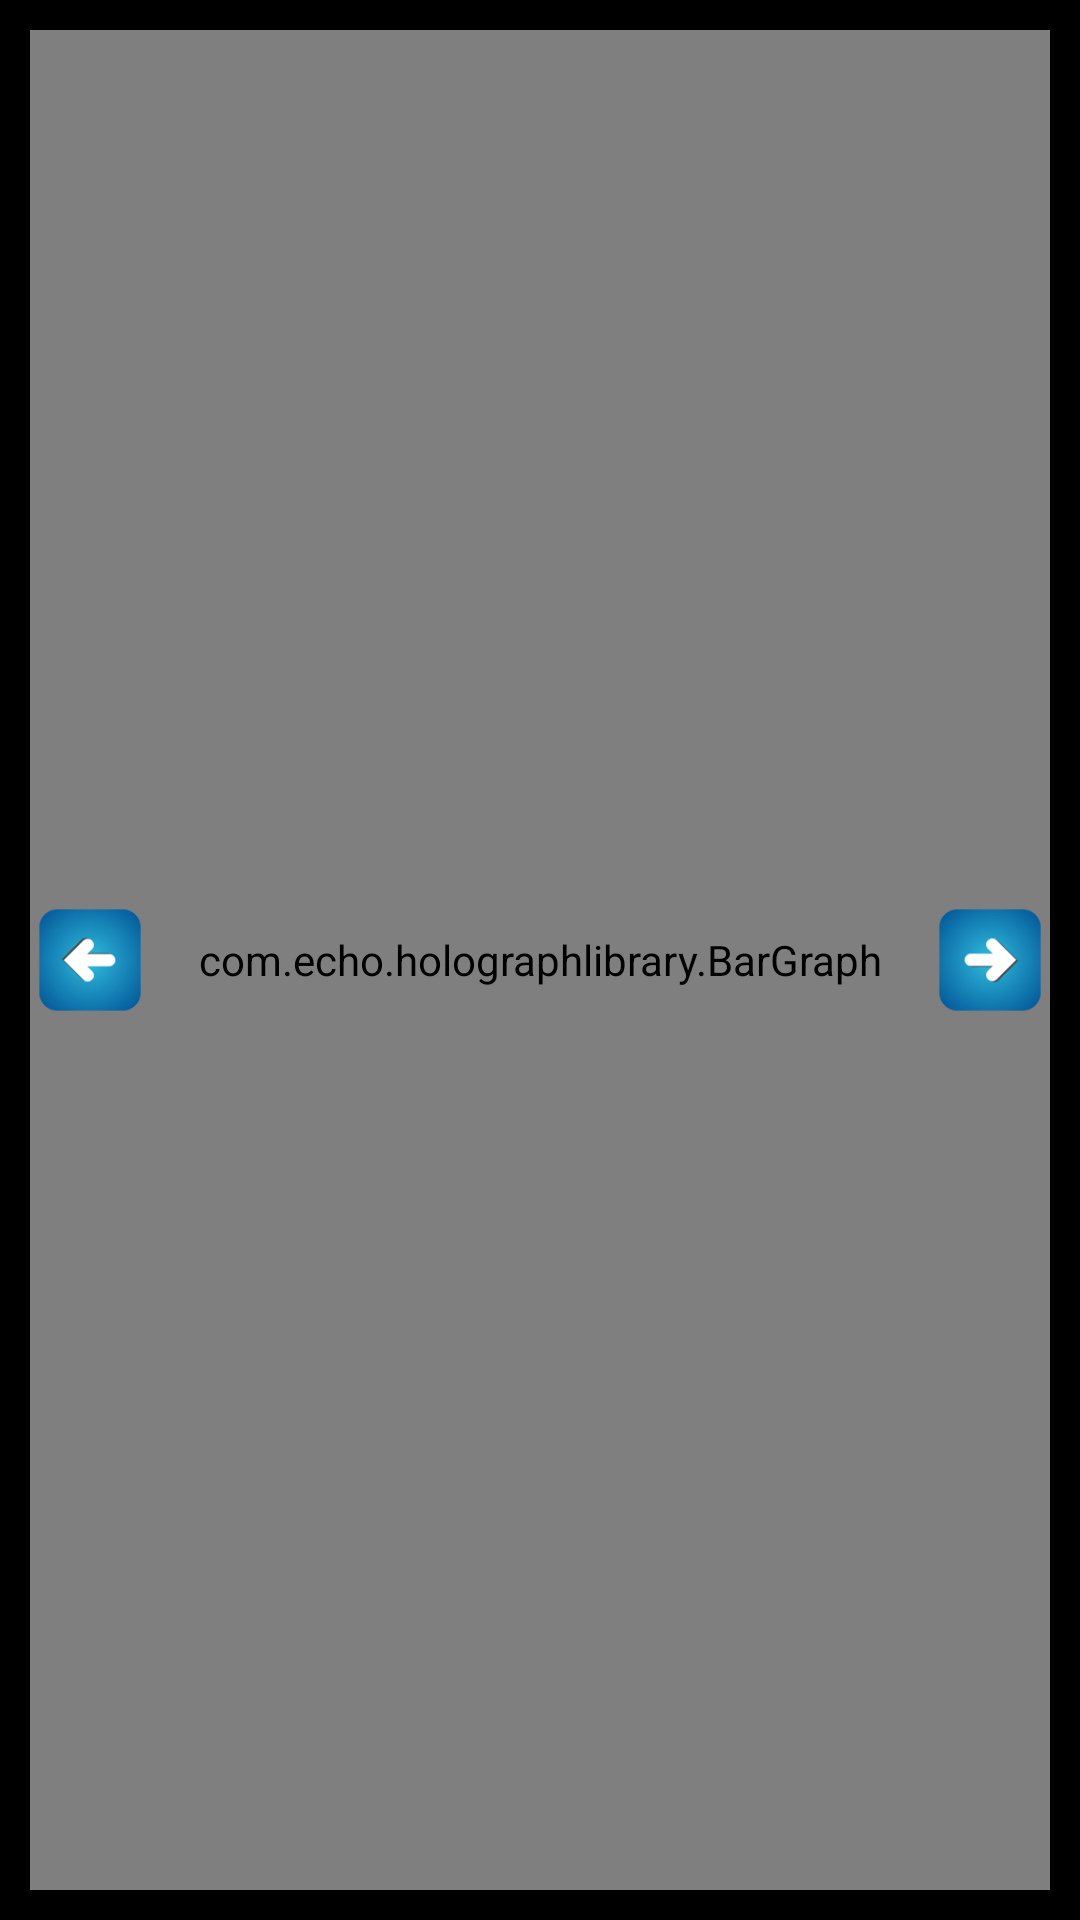

Where icons sit on this 1080*1920 app screen, as (x1, y1, x2, y2):
left: (39, 909, 141, 1011)
right: (939, 909, 1041, 1011)
